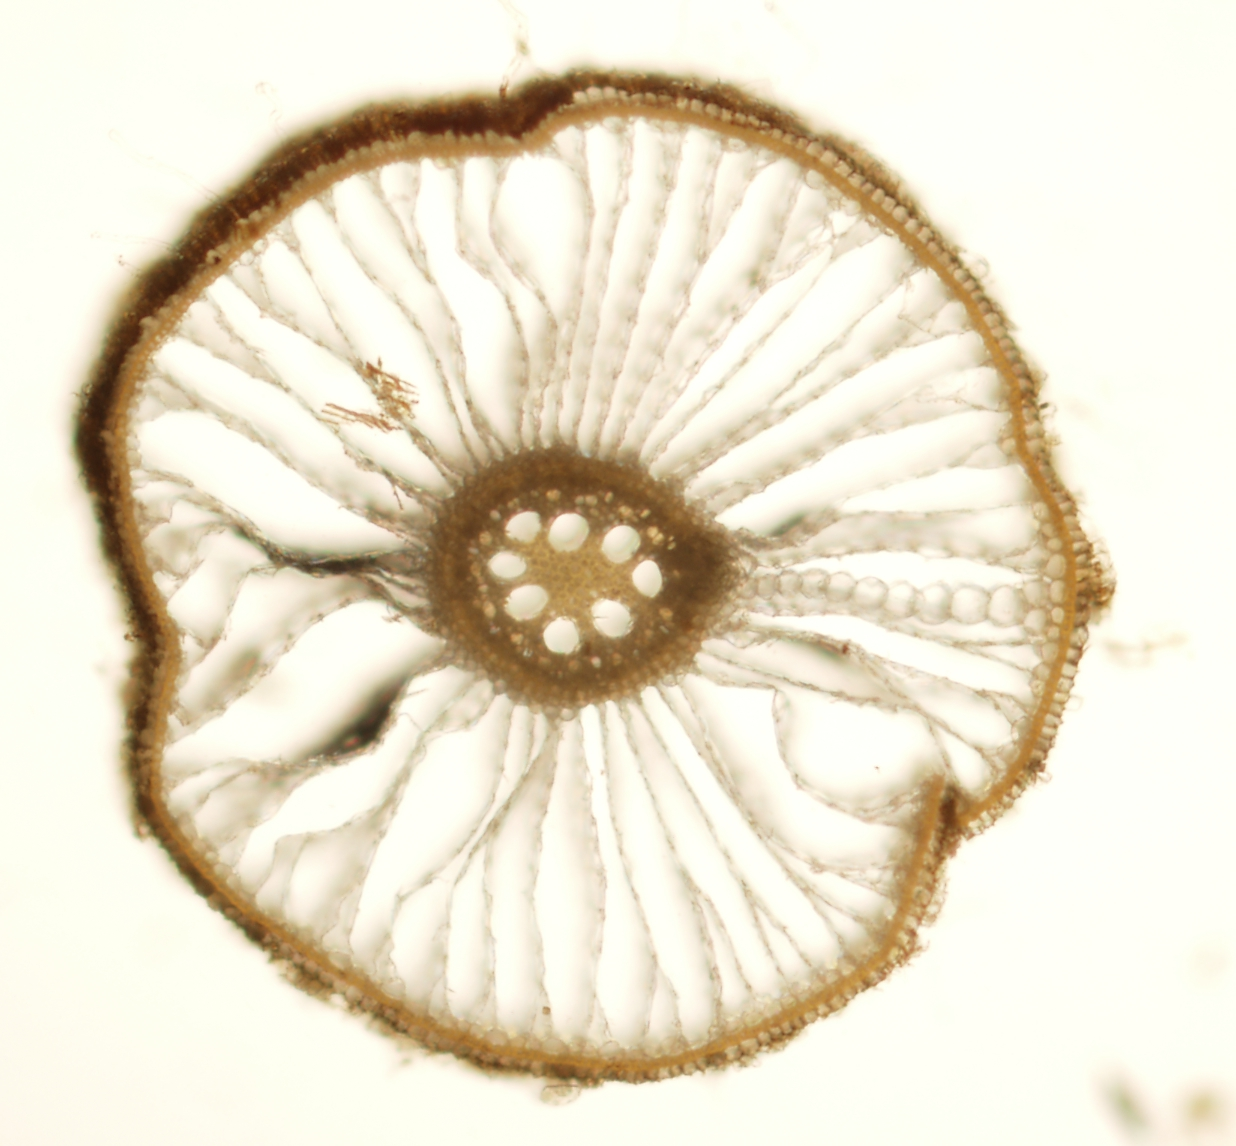lm: (503, 584, 549, 621), (591, 598, 634, 638), (548, 513, 589, 553), (602, 525, 641, 564), (543, 616, 581, 655), (505, 511, 542, 543), (632, 560, 663, 598), (487, 551, 526, 579)
